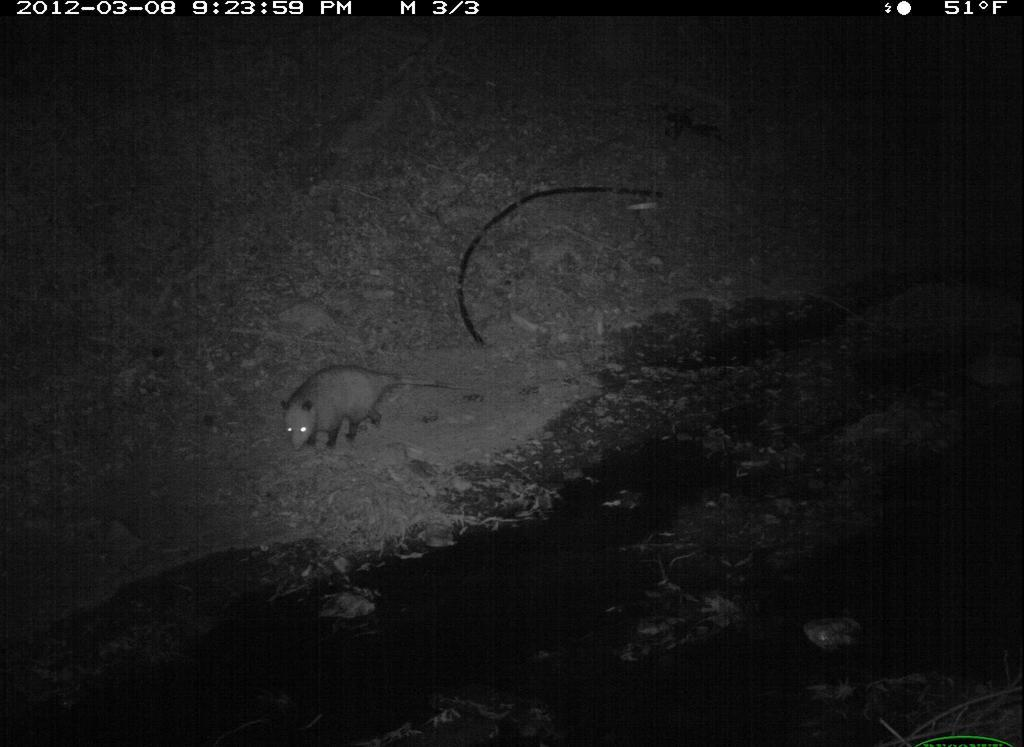opossum: (274, 355, 465, 464)
